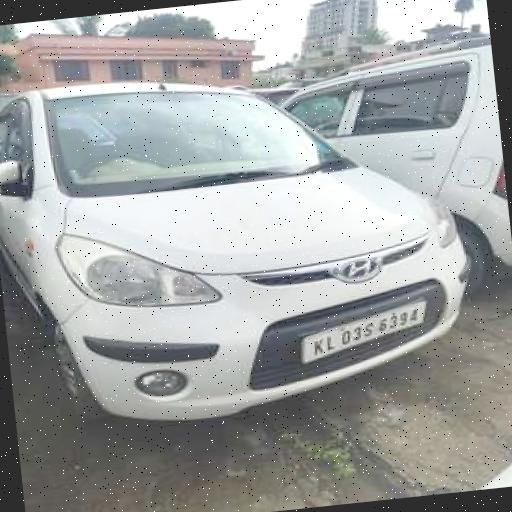license_plate`: (294, 298, 429, 362)
